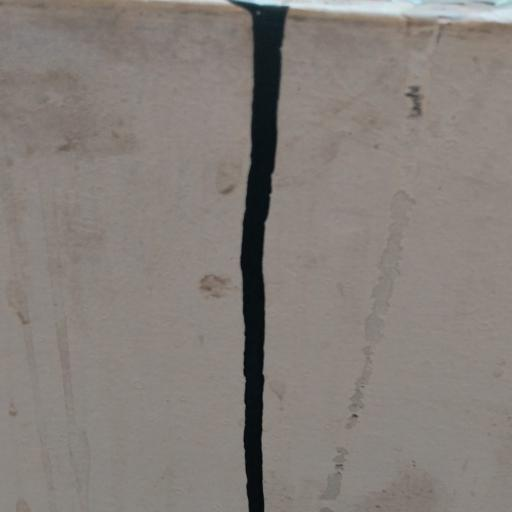stain: (186, 0, 284, 512)
